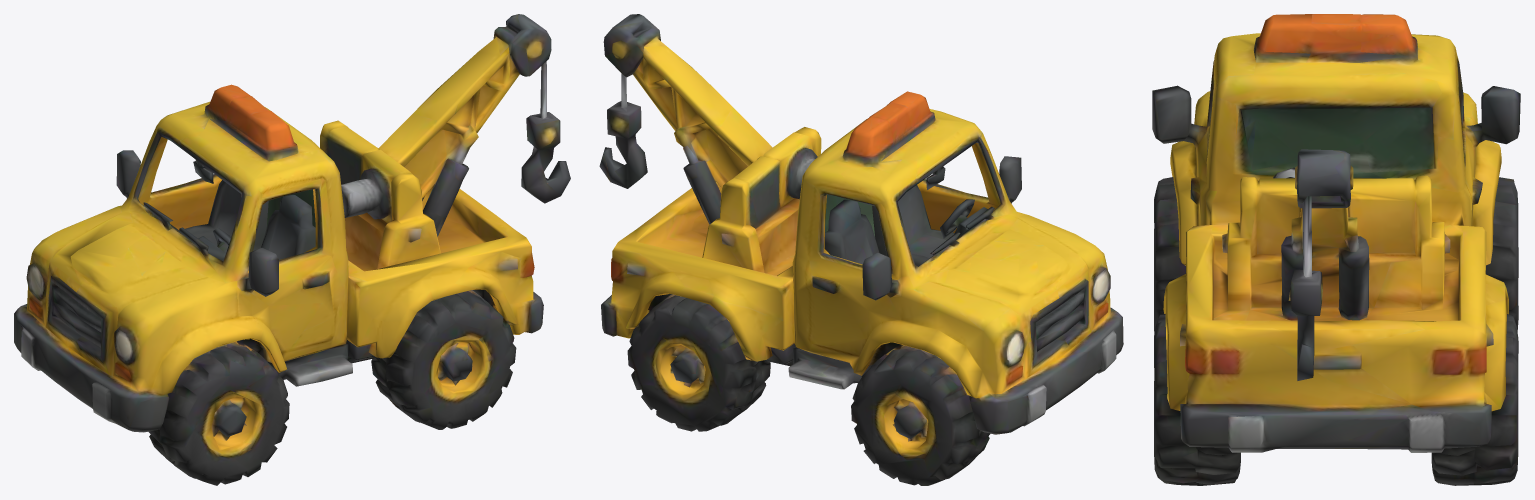
File: towtruck.glb
3 views of the same model, side by side, from view 1: azimuth 30°, elevation 25°; view 2: azimuth 150°, elevation 25°; view 3: azimuth 270°, elevation 25° (orthographic). The views are drawn at different scales.
Parts seen in each view (by area): view 1: towtruck-node; view 2: towtruck-node; view 3: towtruck-node.
Boxes of the visible parts, left/top/right/bottom form: towtruck-node: left=14, top=14, right=570, bottom=485; towtruck-node: left=599, top=14, right=1123, bottom=485; towtruck-node: left=1152, top=14, right=1520, bottom=485.
Bounding box in the file's own units: 1.57 × 0.9995 × 0.8252.
Materials: 1 (1 with a texture image).
